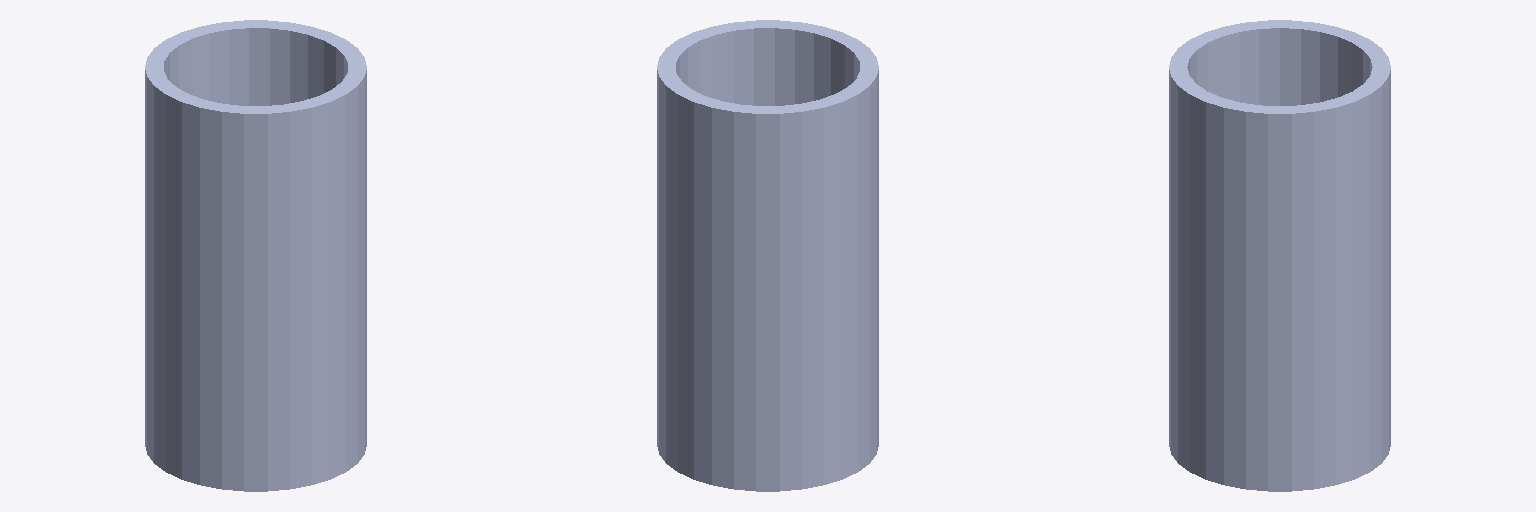
robot.urdf — cannon:
<?xml version="1.0" encoding="utf-8"?>
<!-- This URDF was automatically created by SolidWorks to URDF Exporter! Originally created by [author] ([email redacted]) 
     Commit Version: 1.5.1-0-g916b5db  Build Version: 1.5.7152.31018
     For more information, please see http://wiki.ros.org/sw_urdf_exporter -->
<robot
  name="cannon">

  <link
    name="cannon7">
    <inertial>
      <origin
        xyz="0 0 4.86131984276869E-35"
        rpy="0 0 0" />
      <mass
        value="5" />
      <inertia
        ixx="2.1524E-06"
        ixy="-1.8456E-39"
        ixz="-1.6642E-38"
        iyy="2.1524E-06"
        iyz="-2.1310211914254E-22"
        izz="1.0534E-06" />
    </inertial>

    <surface>
      <bounce>
        <restitution_coefficient>0</restitution_coefficient>
        <threshold>0</threshold>
      </bounce>
      <contact>
        <ode>
          <max_vel>10</max_vel>
        </ode>
      </contact>
    </surface>


    <visual>
      <origin
        xyz="0 0 0"
        rpy="1.5707963267949 0 0" />
      <geometry>
        <mesh
          filename="package://cannon7/meshes/cannon7.STL" />
      </geometry>
      <material
        name="">
        <color
          rgba="0.79216 0.81961 0.93333 1" />
        <texture
          filename="package://cannon7/textures/" />
      </material>
    </visual>
    <collision>
      <origin
        xyz="0 0 0"
        rpy="1.5707963267949 0 0" />
      <geometry>
        <mesh
          filename="package://cannon7/meshes/cannon7.STL" />
      </geometry>
    </collision>
  </link>


  <link name="world"/>

  <joint name="grounding" type="fixed">
    <parent link="world"/>
    <child link="cannon7"/>
  </joint>



  <link
    name="piston">

    <inertial>
      <origin
        xyz="0 0 0"
        rpy="0 0 0" />
      <mass
        value="2" />
      <inertia
        ixx="1.1454E-08"
        ixy="0.0"
        ixz="0.0"
        iyy="1.1454E-08"
        iyz="0.0"
        izz="9.8175E-09" />
    </inertial>

    <surface>
      <bounce>
        <restitution_coefficient>1</restitution_coefficient>
        <threshold>0</threshold>
      </bounce>
      <contact>
        <ode>
          <max_vel>10</max_vel>
        </ode>
      </contact>
    </surface>


    <visual>
      <origin
        xyz="0 0 0"
        rpy="1.5707963267949 0 0" />
      <geometry>
        <mesh
          filename="package://piston/meshes/piston.STL" />
      </geometry>
      <material
        name="">
        <color
          rgba="0.79216 0.81961 0.93333 1" />
        <texture
          filename="package://piston/textures/" />
      </material>
    </visual>
    <collision>
      <origin
        xyz="0 0 0.005"
        rpy="0 0 0" />
      <geometry>
        <cylinder radius= "0.005" length = "0.01" /> 
      </geometry>
    </collision>
  </link>



  <joint name="piston_move" type="prismatic">
    <parent link="cannon7"/>
    <child link="piston"/>
    <axis xyz="0 0 1"/>
    <limit effort="1000.0" lower="0.0" upper="1" velocity="1"/>
    <origin rpy="0 0 0" xyz="0 0 0"/>
  </joint>

  <transmission name="piston_move" type="SimpleTransmission">
    <type>transmission_interface/SimpleTransmission</type>
    <actuator name="piston_motor">
      <mechanicalReduction>1</mechanicalReduction>
    </actuator>
    <joint name="piston_move">
      <hardwareInterface>PositionJointInterface</hardwareInterface>
    </joint>
  </transmission>

  <gazebo>
    <plugin name="gazebo_ros_control" filename="libgazebo_ros_control.so">
      <robotNamespace>/cannon</robotNamespace>
    </plugin>
  </gazebo>

  <gazebo reference="piston">
    <selfCollide>1</selfCollide>
  </gazebo>

  <gazebo reference="ball">
    <selfCollide>1</selfCollide>
  </gazebo>

  <gazebo reference="cannon7">
    <selfCollide>1</selfCollide>
  </gazebo>




</robot>

--- What the picture shows (computed from the rendered views, not written in the file) ---
Views: 3 orthographic renders of the robot side by side, from view 1: azimuth 30°, elevation 25°; view 2: azimuth 150°, elevation 25°; view 3: azimuth 270°, elevation 25°.
Model cannon with 3 links and 2 joints (1 prismatic, 1 fixed), rooted at world, posed all joints at 0.
Visible links, largest first — view 1: cannon7; view 2: cannon7; view 3: cannon7.
Link boxes in pixels (x1,y1,x2,y2): cannon7: (145, 20, 366, 491); cannon7: (657, 20, 878, 491); cannon7: (1169, 20, 1390, 491).
Size in the robot's own frame: 0.0239 by 0.024 by 0.045 metres.
Meshes: 2 distinct files referenced, 2 mesh visuals loaded (2 binary STL).
